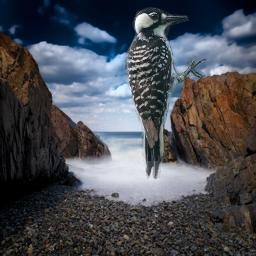Woodpecker: (123, 7, 209, 179)
